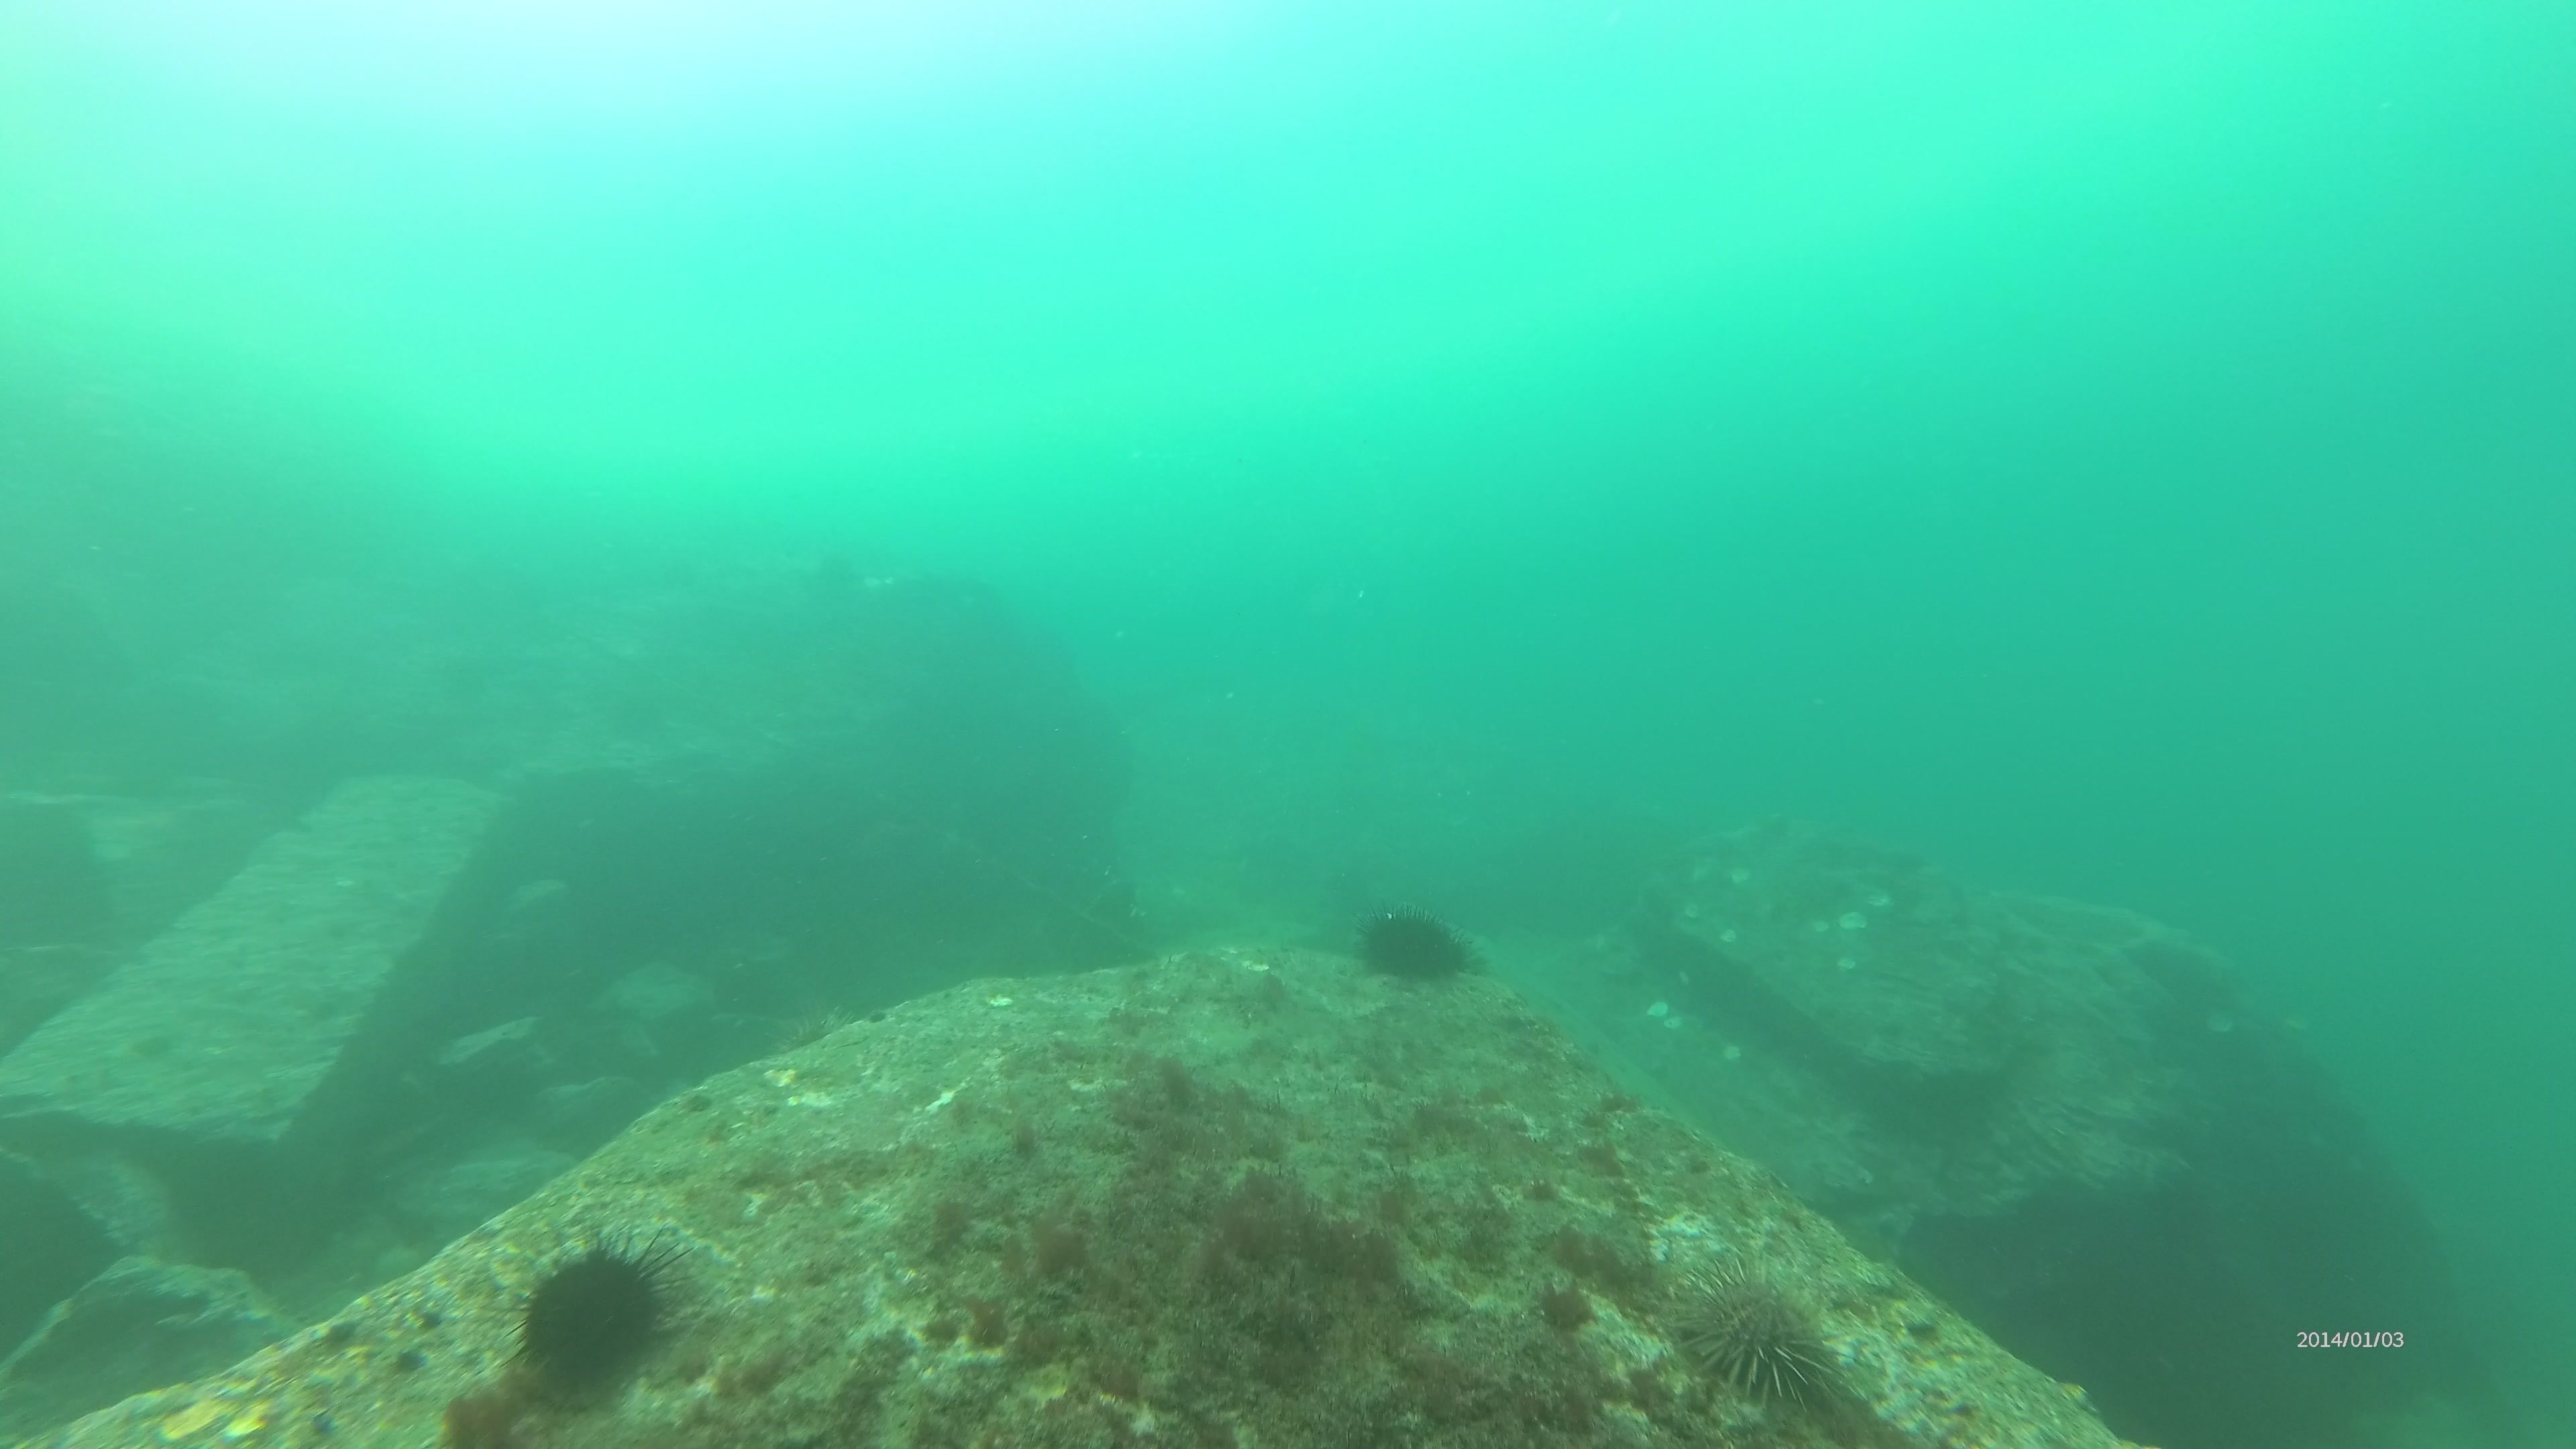echinus: (508, 1226, 688, 1401), (1667, 1258, 1844, 1414), (1350, 897, 1483, 994)
